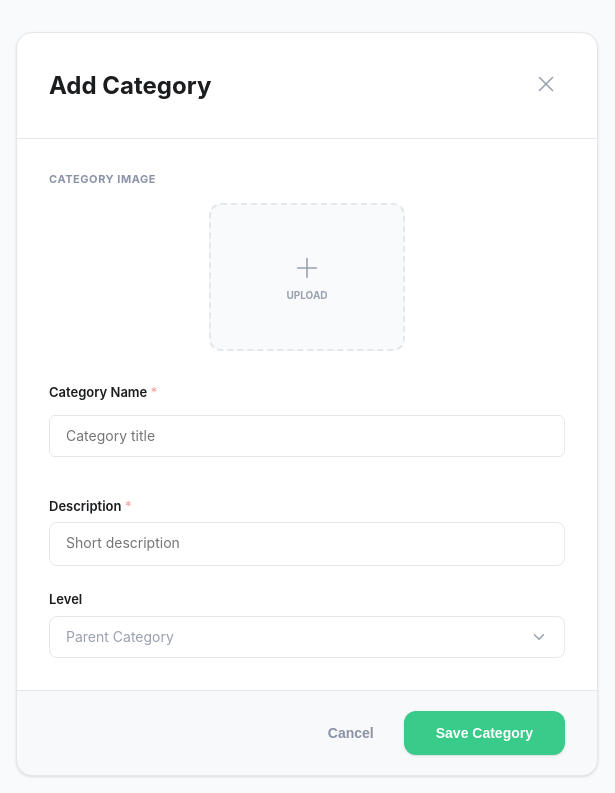
Test: Component: CategoryForm › should show validation errors for required fields on submit
Click the button "Save Category" at point(484, 733), box [404,711,565,755]
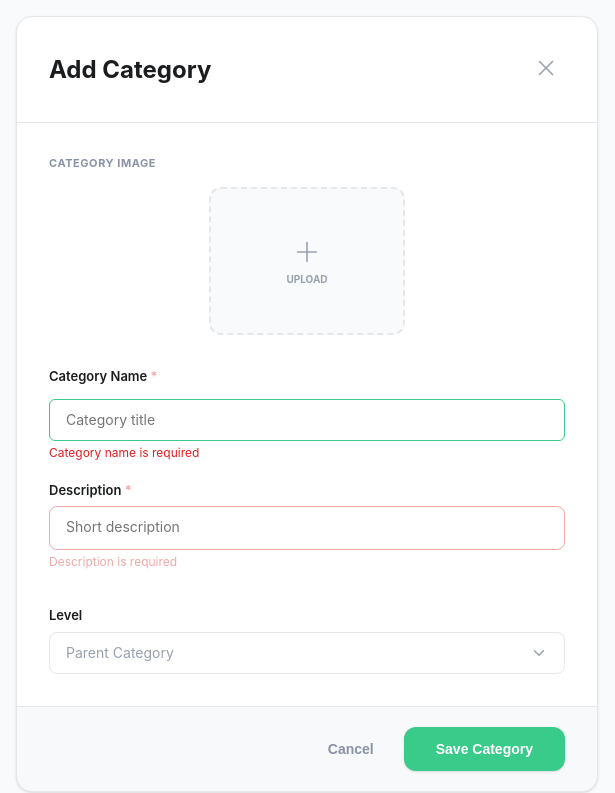
Now the text "Category name is required" is shown, box [49,445,199,460]
